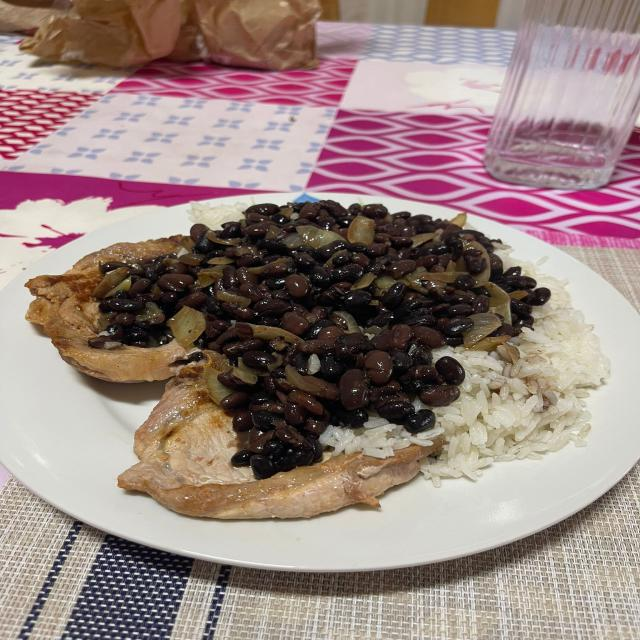black bean: (99, 200, 549, 479)
chicken: (25, 236, 440, 519)
plate: (0, 193, 640, 571)
rice: (421, 308, 610, 486), (323, 421, 410, 457)
